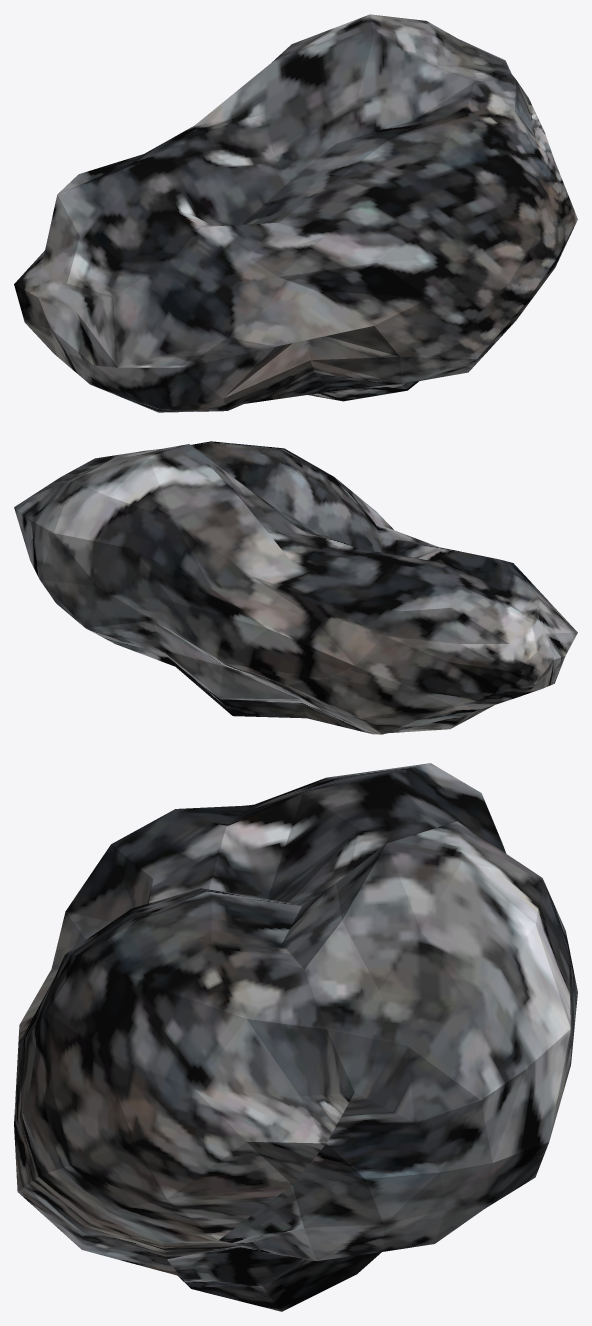
File: Effect_GeneratorLight.fbx
The picture shows the model from 3 angles, top to bottom: view 1: azimuth 30°, elevation 25°; view 2: azimuth 150°, elevation 25°; view 3: azimuth 270°, elevation 25°; orthographic projection. The views are drawn at different scales.
Parts seen in each view (by area): view 1: SM_flesh_01.mo; view 2: SM_flesh_01.mo; view 3: SM_flesh_01.mo.
Boxes of the visible parts, x1,y1,x2,y2 form: SM_flesh_01.mo: [14, 14, 577, 412]; SM_flesh_01.mo: [14, 441, 577, 734]; SM_flesh_01.mo: [14, 763, 577, 1311].
Size of the model in its own units: 17.8 by 10.04 by 10.65.
